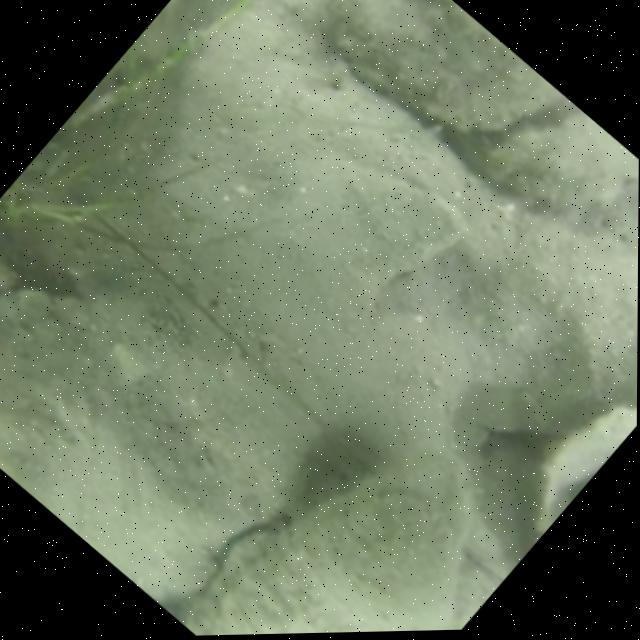Oyster-Closed: (183, 476, 470, 636)
Oyster-Indeterminate: (0, 289, 338, 607), (313, 0, 562, 129), (479, 116, 639, 212), (333, 164, 458, 278)
